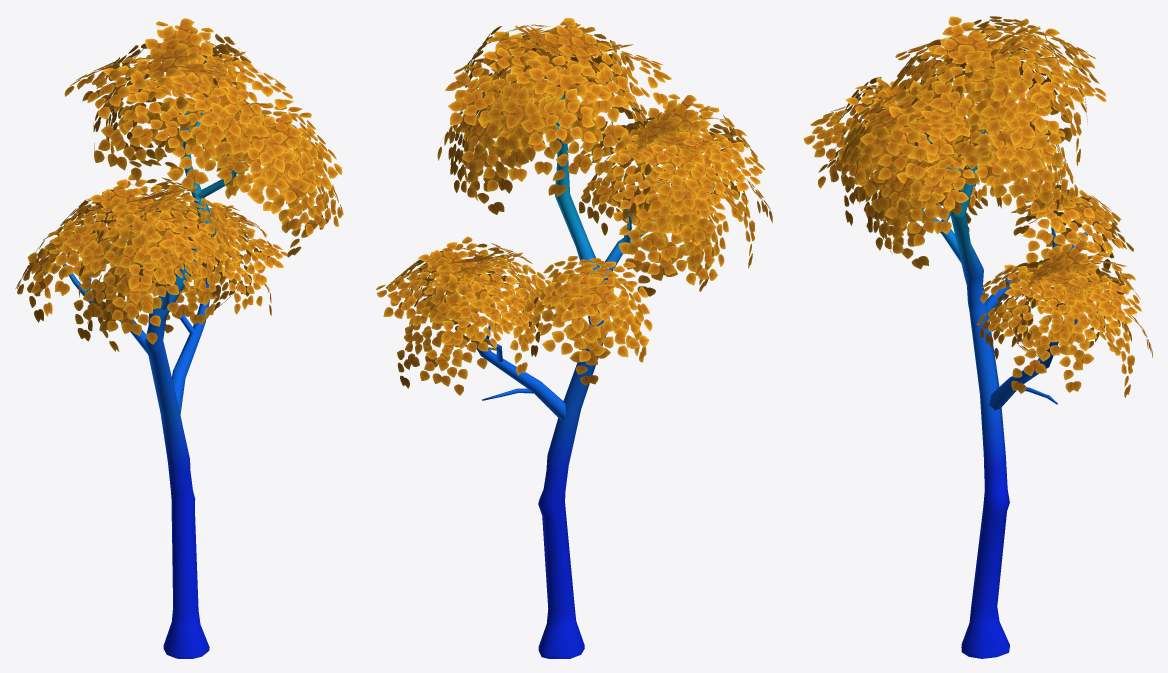
The model's file is m_Birch_A_VP.fbx.
3 renders of one model, left to right at view 1: azimuth 30°, elevation 25°; view 2: azimuth 150°, elevation 25°; view 3: azimuth 270°, elevation 25°, orthographic. The views are drawn at different scales.
Parts seen in each view (by area): view 1: Birch_A_LeafA, Birch_A; view 2: Birch_A_LeafA, Birch_A; view 3: Birch_A_LeafA, Birch_A.
Boxes of the visible parts, box(x1,y1,x2,y2) form: Birch_A_LeafA: box(15, 18, 343, 351); Birch_A: box(62, 111, 240, 658); Birch_A_LeafA: box(376, 18, 772, 395); Birch_A: box(469, 94, 654, 658); Birch_A_LeafA: box(803, 16, 1152, 397); Birch_A: box(906, 90, 1088, 658).
Size of the model in its own units: 465 by 953 by 478.
